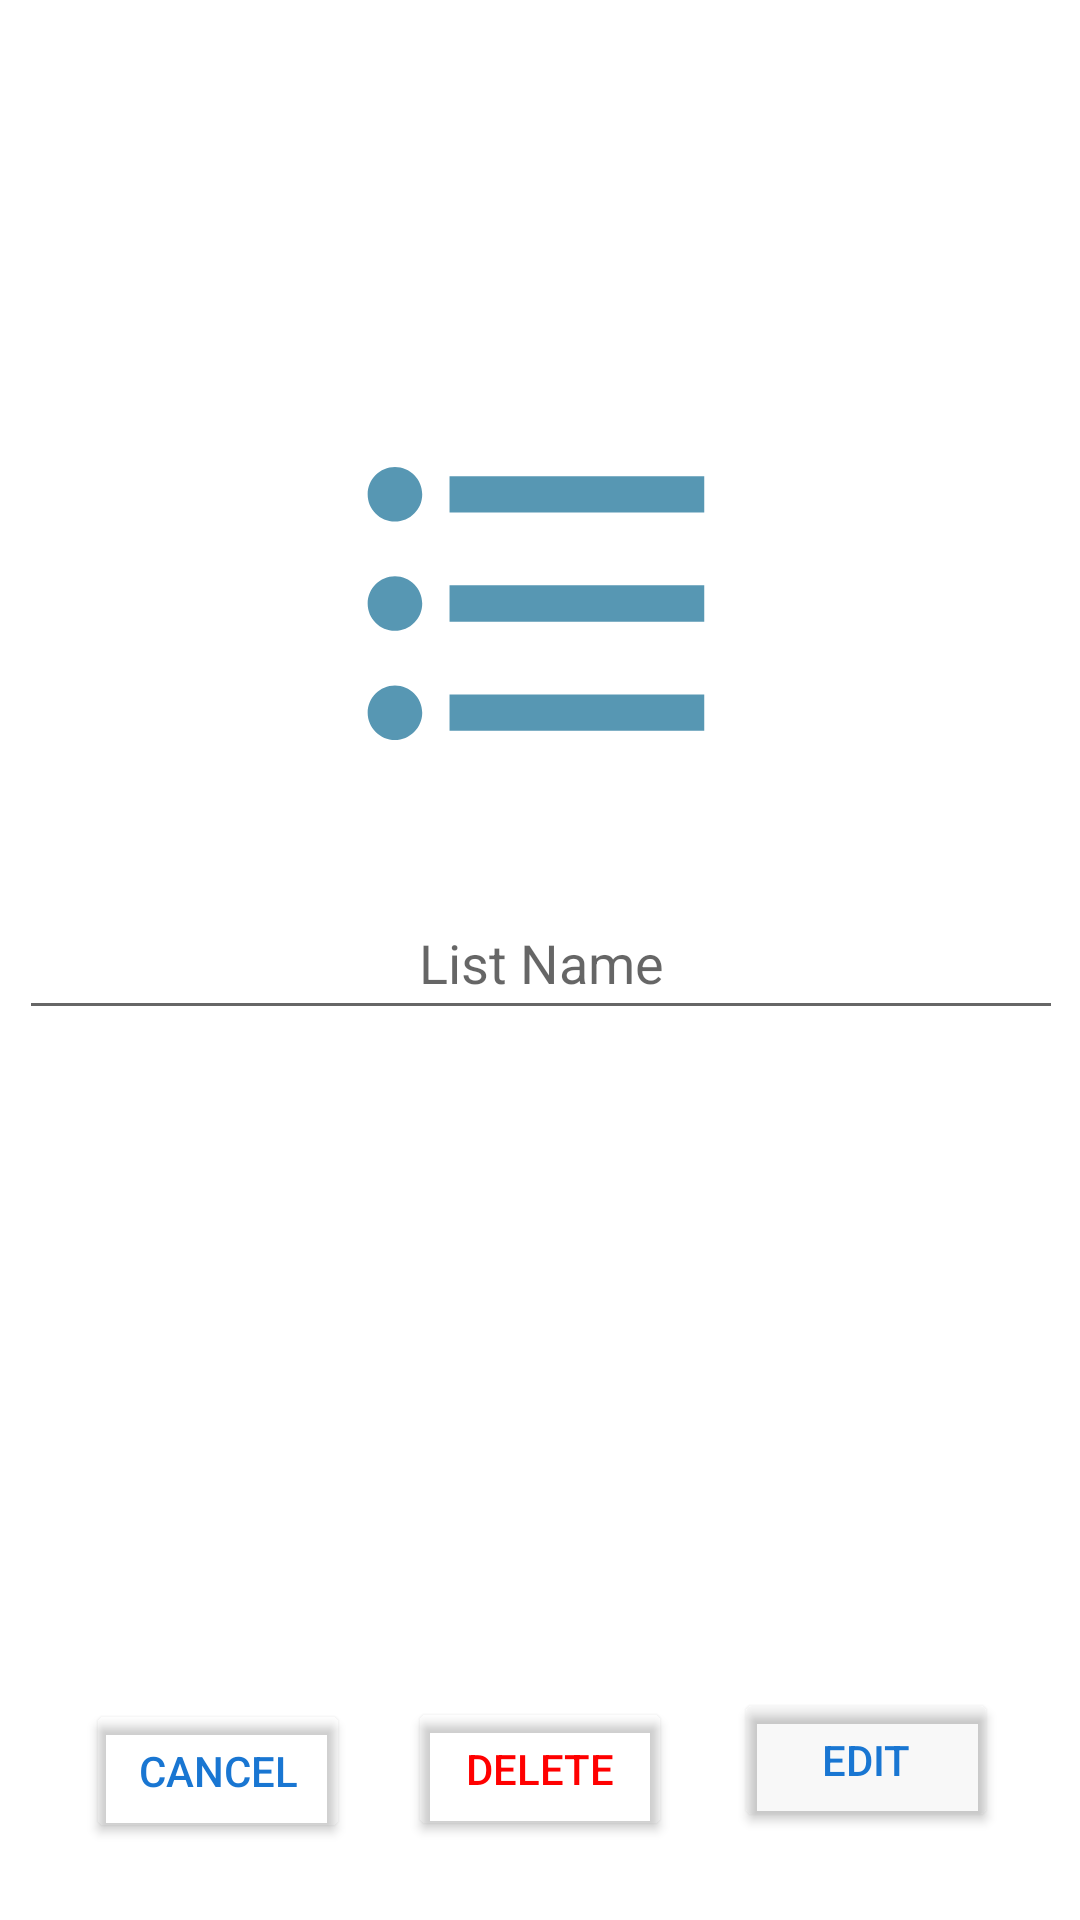

Where to tap for icons on this 1080×1920 app screen, as [x,y]:
newlisticon: [536,603]
